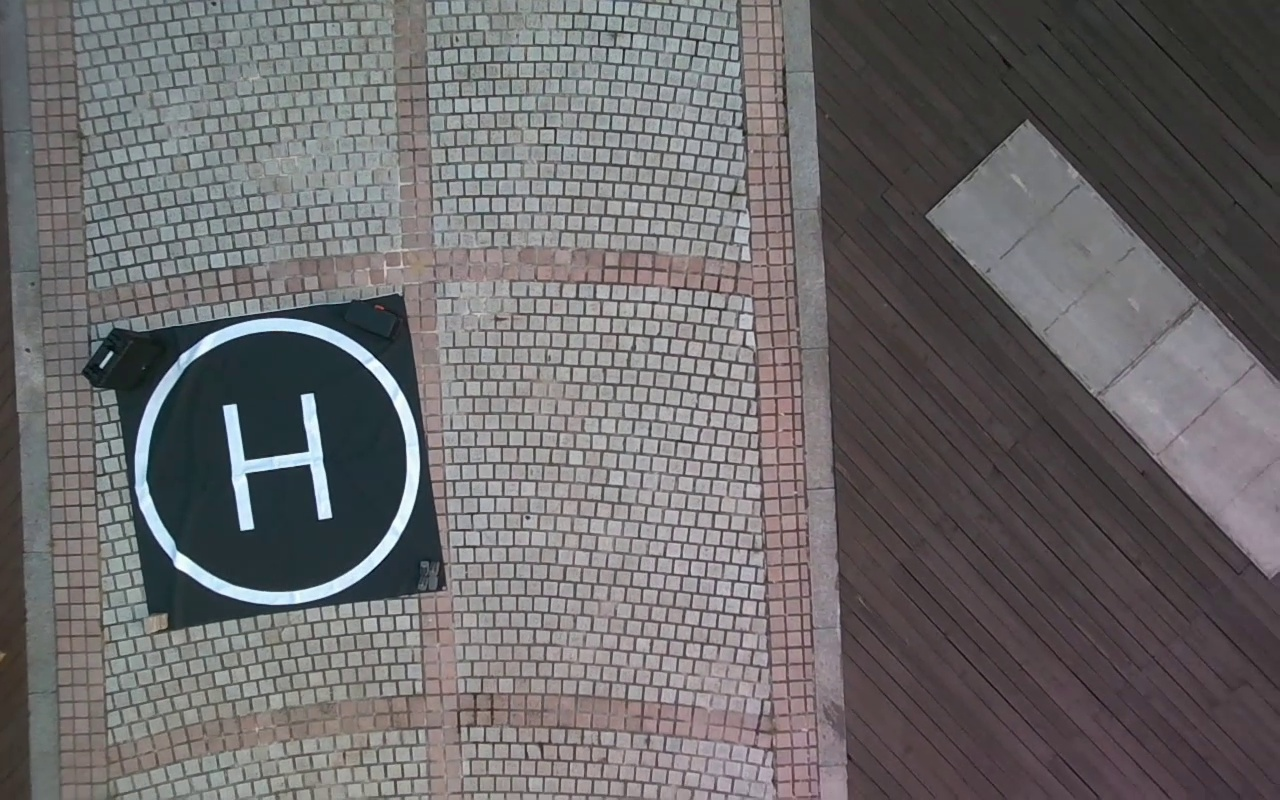H: (219, 389, 334, 534)
heliport: (129, 311, 422, 602)
